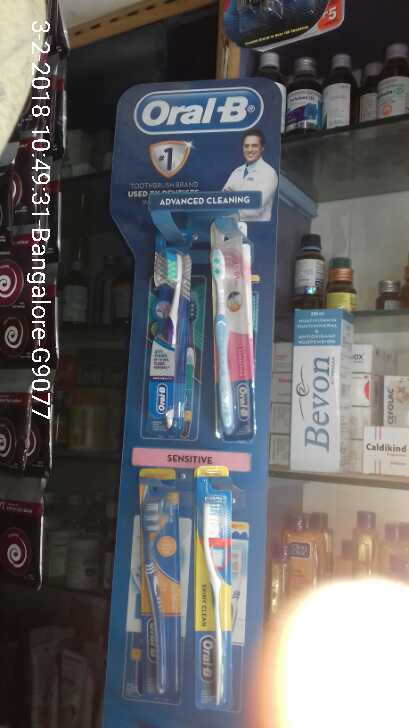oralb: (205, 224, 269, 442), (127, 472, 183, 701), (139, 232, 198, 449), (187, 483, 232, 708)
